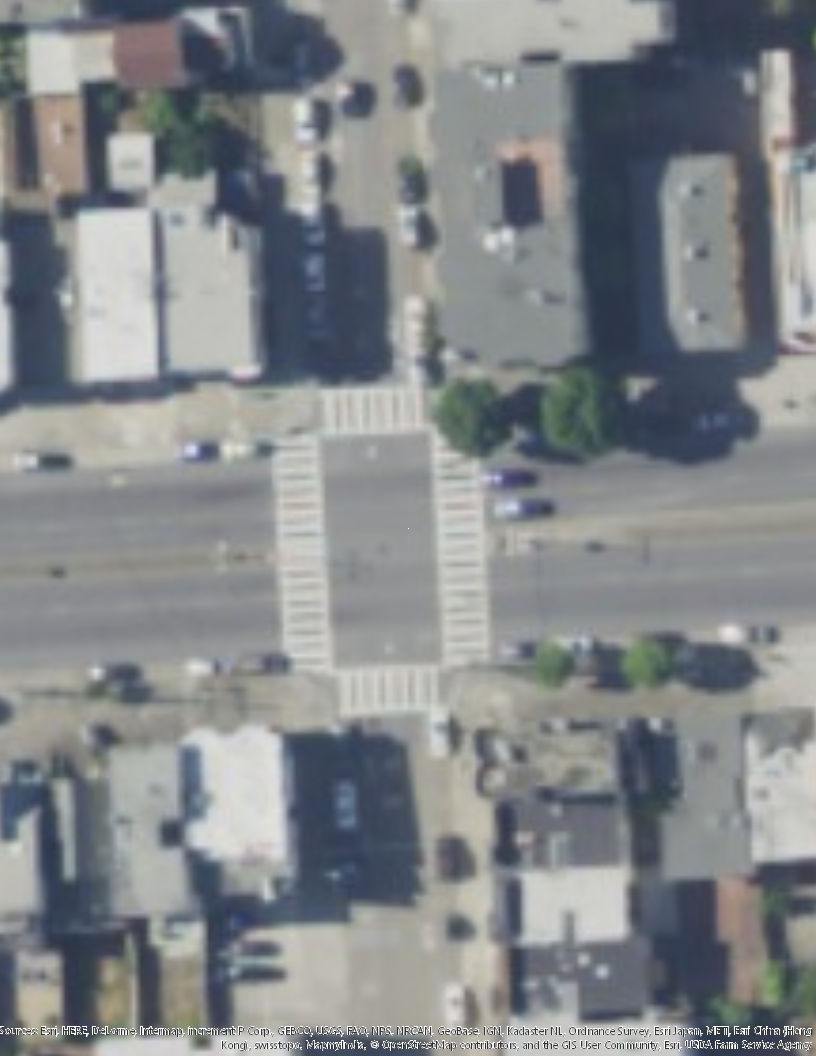zebracross: (273, 436, 337, 667), (433, 435, 491, 664), (331, 661, 440, 713), (325, 388, 433, 433)
